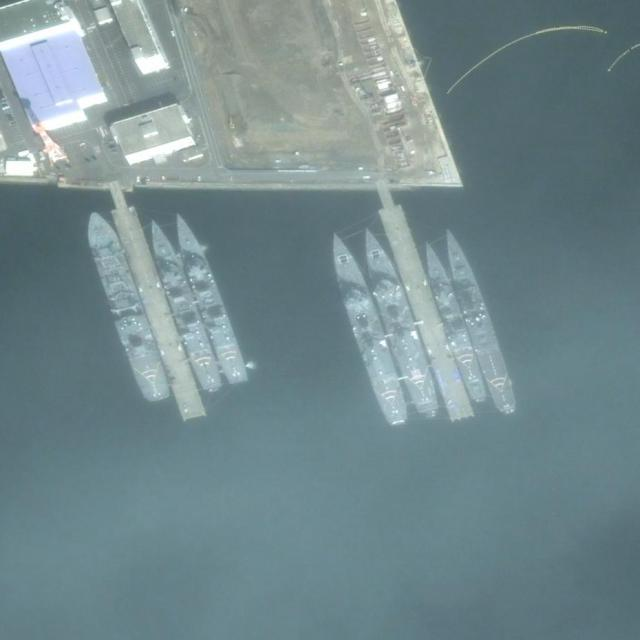Auxiliary Ships: (80, 205, 172, 407)
Destroyer: (139, 213, 227, 396), (165, 208, 252, 388), (414, 240, 493, 403)
Dock: (103, 180, 209, 427), (372, 180, 474, 424)
Other Warship: (319, 224, 416, 431), (350, 220, 445, 422), (434, 221, 523, 415)
